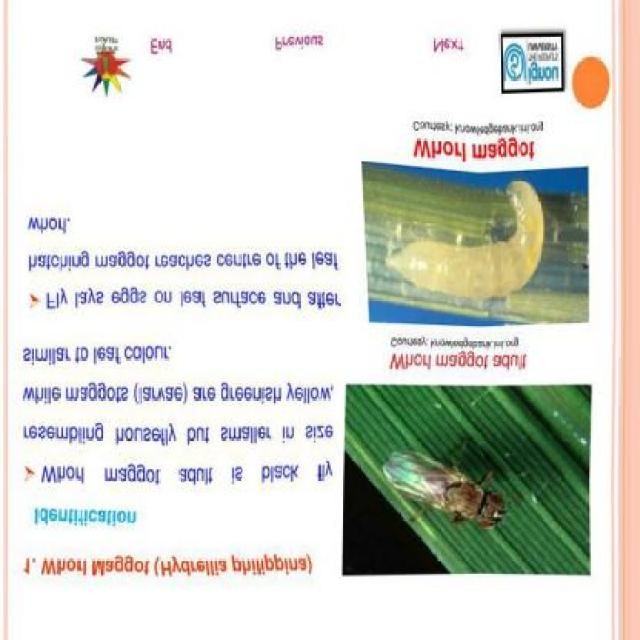whorl-maggot: (376, 178, 549, 305)
